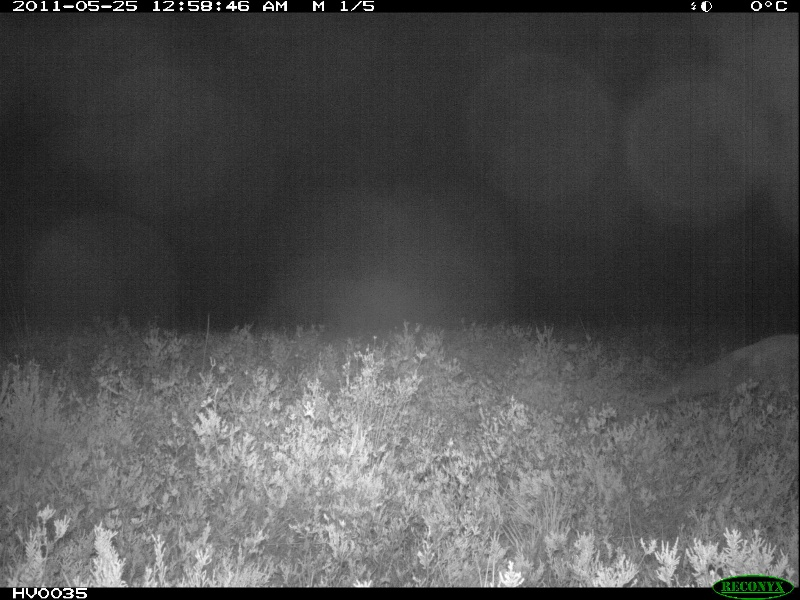fox: (654, 329, 800, 412)
